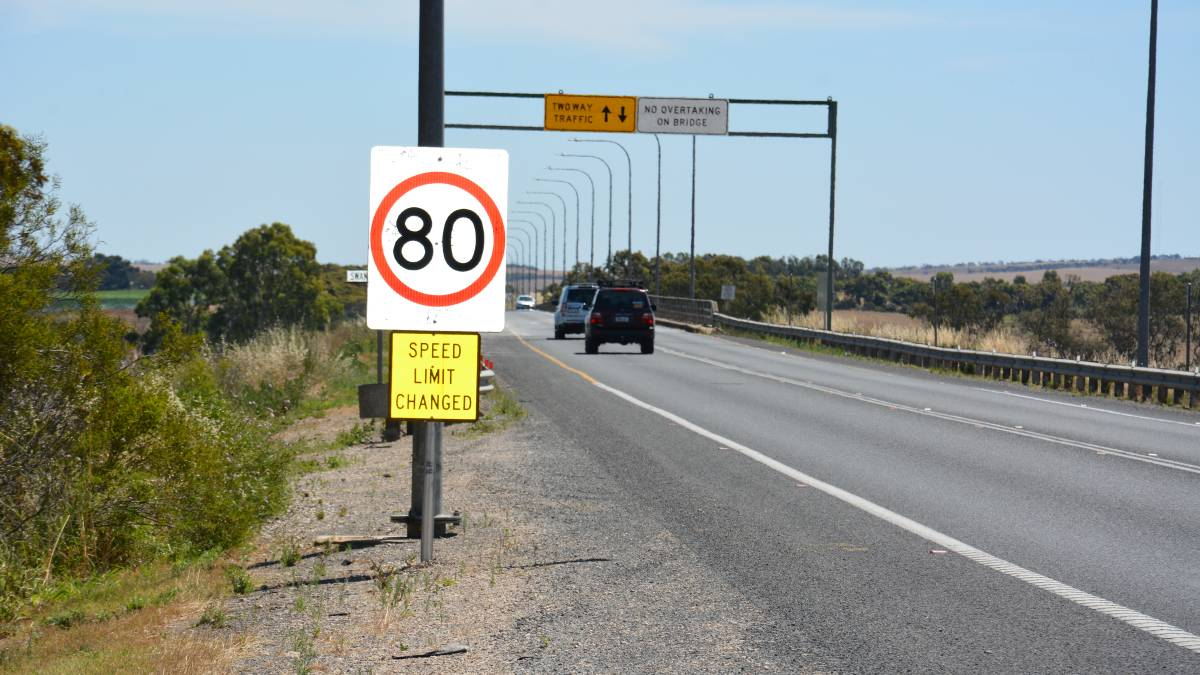Speed_limit_80km: (369, 174, 509, 307)
